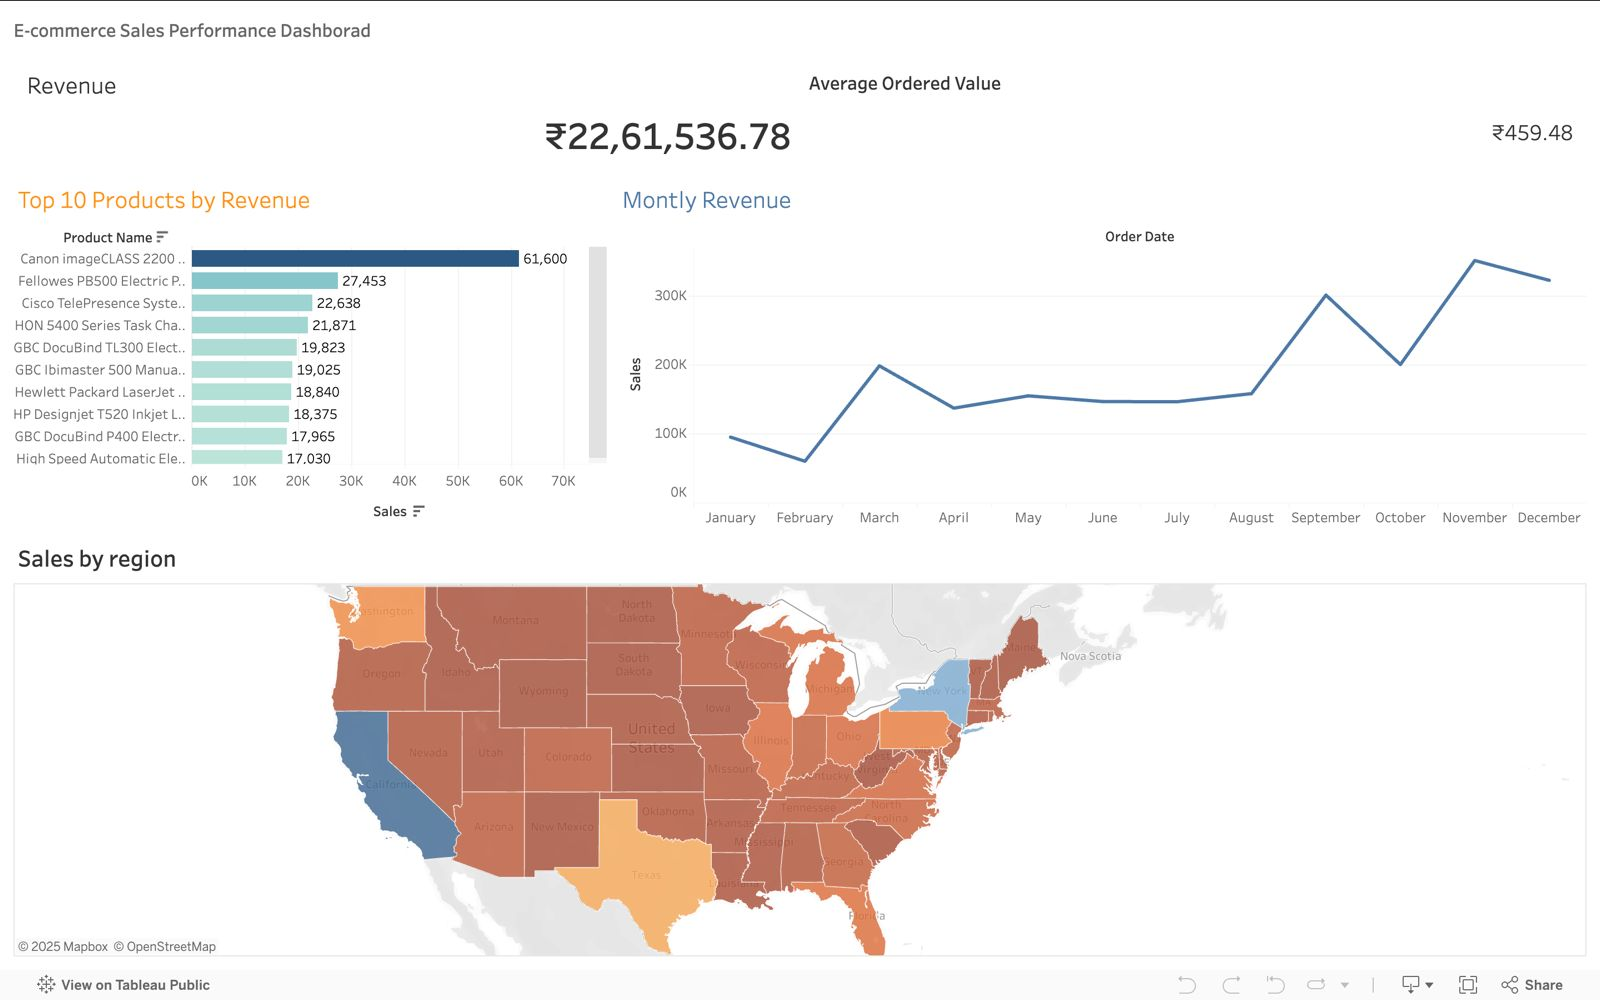

The dashboard page shown, as its layout file describes it:
{"tool":"tableau","page":{"name":"Sales & Revenue Dash1","canvas":[1000,1000],"units":"permille","ordinal":0},"visuals":[{"type":"text","box":[6.5,10.4,987,41.6]},{"type":"worksheet","title":"Revenue","mark":"Automatic","box":[13,62.5,487.4,105.5]},{"type":"worksheet","title":"AOV","mark":"Automatic","box":[500.4,62.5,486.6,105.5]},{"type":"worksheet","title":"Top 10 Products","mark":"Automatic","rows":["Product Name"],"cols":["Sales"],"box":[6.5,178.3,442.6,368.5]},{"type":"worksheet","title":"monthly revenue trend","mark":"Automatic","rows":["Sales"],"cols":["Order Date"],"box":[449.2,178.3,544.3,368.5]},{"type":"worksheet","title":"sales by region","mark":"Automatic","box":[6.5,546.9,987,442.7]}]}

Visuals, with their boxes on the dashboard's canvas, which has no fixed pixel size, in thousandths of its width and height (x1, y1, x2, y2). These are canvas units, not pixel positions in the 1600x1000 screenshot, which may show the page scaled, cropped or inside an application window:
text: {"left": 6, "top": 10, "right": 994, "bottom": 52}
"Revenue" worksheet: {"left": 13, "top": 62, "right": 500, "bottom": 168}
"AOV" worksheet: {"left": 500, "top": 62, "right": 987, "bottom": 168}
"Top 10 Products" worksheet: {"left": 6, "top": 178, "right": 449, "bottom": 547}
"monthly revenue trend" worksheet: {"left": 449, "top": 178, "right": 994, "bottom": 547}
"sales by region" worksheet: {"left": 6, "top": 547, "right": 994, "bottom": 990}
